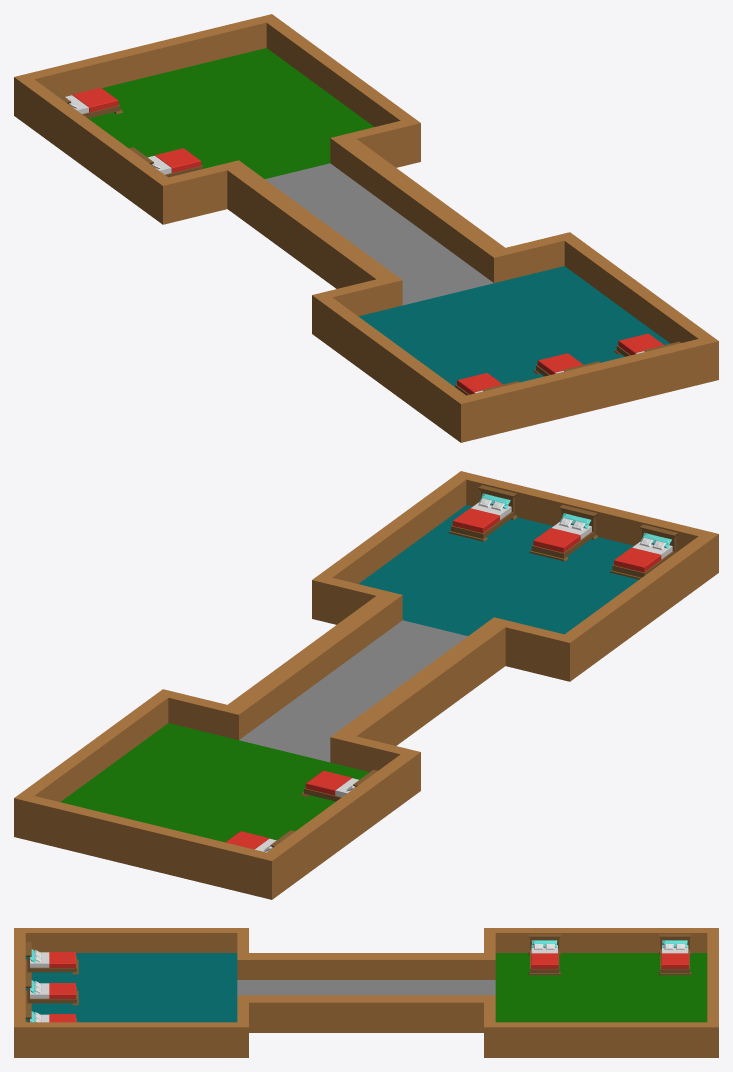
Rendered from demo_floor.dae.
3 views of the same model, one above another, from view 1: azimuth 30°, elevation 25°; view 2: azimuth 150°, elevation 25°; view 3: azimuth 270°, elevation 25° (orthographic). The views are drawn at different scales.
Visible parts, largest first — view 1: Stanza1, Stanza2, Corridoio, Plane.033, Plane.026; view 2: Stanza2, Stanza1, Corridoio, Plane.019, Plane.012, Plane.003, Plane.033; view 3: Stanza2, Stanza1, Corridoio, Plane.033, Plane.026, Plane.012, Plane.003, Plane.014, Plane.001, Plane.019.
Part boxes in pixels (x1=…): Stanza1: x1=312, y1=232, x2=718, y2=442; Stanza2: x1=14, y1=14, x2=420, y2=224; Corridoio: x1=227, y1=139, x2=504, y2=297; Plane.033: x1=154, y1=148, x2=201, y2=172; Plane.026: x1=72, y1=87, x2=118, y2=112; Stanza2: x1=14, y1=689, x2=420, y2=899; Stanza1: x1=312, y1=471, x2=718, y2=681; Corridoio: x1=228, y1=596, x2=505, y2=754; Plane.019: x1=452, y1=508, x2=499, y2=533; Plane.012: x1=533, y1=528, x2=580, y2=552; Plane.003: x1=614, y1=547, x2=661, y2=572; Plane.033: x1=305, y1=770, x2=351, y2=795; Stanza2: x1=484, y1=928, x2=718, y2=1057; Stanza1: x1=14, y1=928, x2=248, y2=1057; Corridoio: x1=249, y1=953, x2=483, y2=1032; Plane.033: x1=531, y1=953, x2=558, y2=968; Plane.026: x1=661, y1=953, x2=688, y2=968; Plane.012: x1=49, y1=983, x2=75, y2=998; Plane.003: x1=49, y1=952, x2=75, y2=967; Plane.014: x1=30, y1=987, x2=76, y2=1003; Plane.001: x1=30, y1=956, x2=76, y2=972; Plane.019: x1=49, y1=1014, x2=75, y2=1022.
Size of the model in its own units: 8 by 24 by 1.15.
